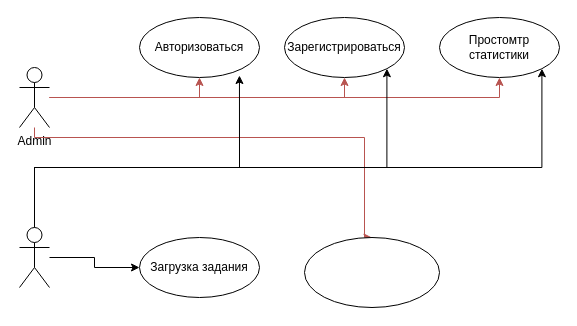
Some shapes in this 577 by 326 pixel diagram are drawn without their labels. Here are the shapes that lost their labels. From the top down, the centre of each, then its label:
At (34,257): "User".
At (372,272): "Проверка задания + обновление статистики".
